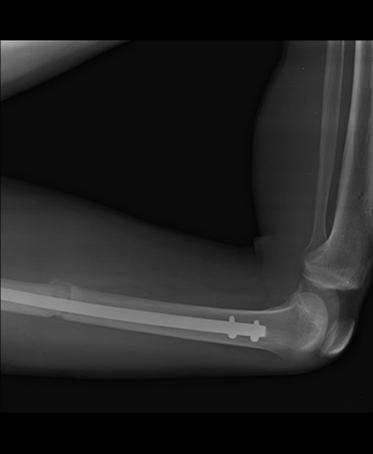fractured: (40, 277, 89, 303), (37, 308, 82, 323)
